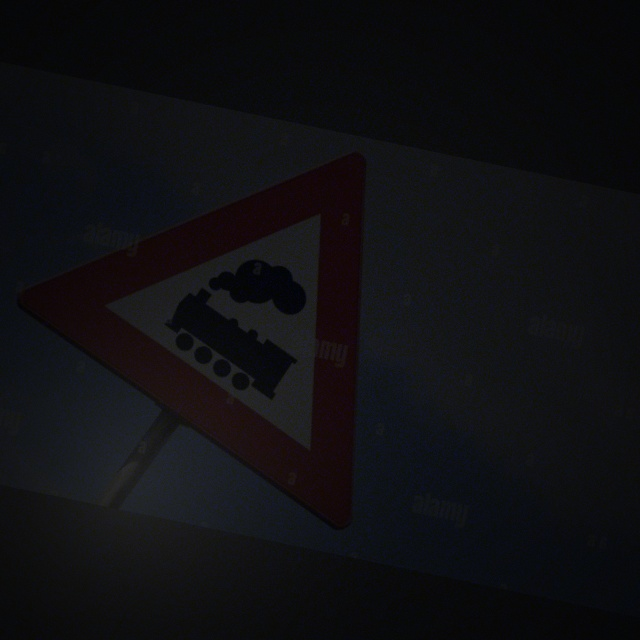Unguarded_Level_Crossing: (30, 102, 425, 484)
